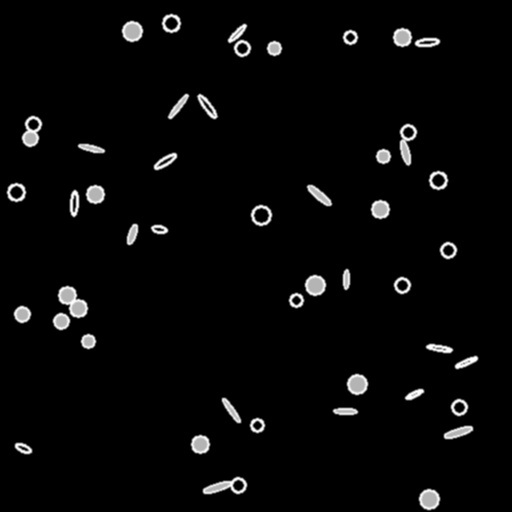pseudomonas: (306, 183, 332, 207), (196, 93, 218, 119), (167, 93, 189, 119), (221, 397, 241, 423), (152, 152, 178, 170), (227, 23, 247, 43), (444, 425, 472, 439), (203, 480, 231, 494), (455, 355, 477, 369), (125, 223, 139, 245), (399, 140, 411, 164), (78, 143, 104, 153), (404, 388, 424, 400), (14, 442, 32, 454), (70, 190, 78, 216), (415, 38, 439, 46), (427, 344, 451, 352), (333, 408, 357, 414), (151, 225, 167, 233), (343, 270, 349, 288)
synechocystis: (306, 276, 324, 294), (252, 206, 270, 224), (348, 375, 366, 393), (420, 490, 438, 508), (123, 22, 141, 40), (8, 184, 24, 200), (394, 29, 410, 45), (163, 15, 179, 31), (59, 287, 75, 303), (87, 186, 103, 202), (70, 300, 86, 316), (192, 436, 208, 452), (430, 172, 446, 188), (372, 201, 388, 217), (26, 117, 40, 131), (231, 478, 245, 492), (441, 243, 455, 257), (395, 278, 409, 292), (15, 307, 29, 321), (235, 41, 249, 55), (452, 400, 466, 414), (401, 125, 415, 139), (54, 314, 68, 328), (23, 131, 37, 145), (290, 294, 302, 306), (251, 419, 263, 431), (268, 42, 280, 54), (344, 31, 356, 43), (82, 335, 94, 347), (377, 150, 389, 162)
